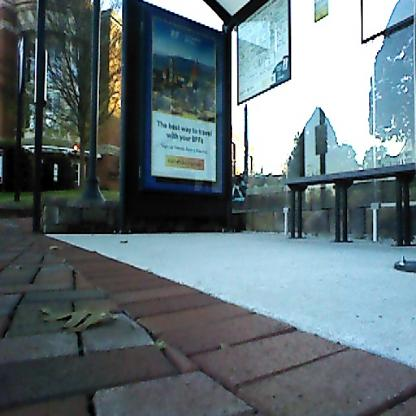Edge: (38, 223, 416, 394)
Sidewalk: (0, 216, 416, 416)
